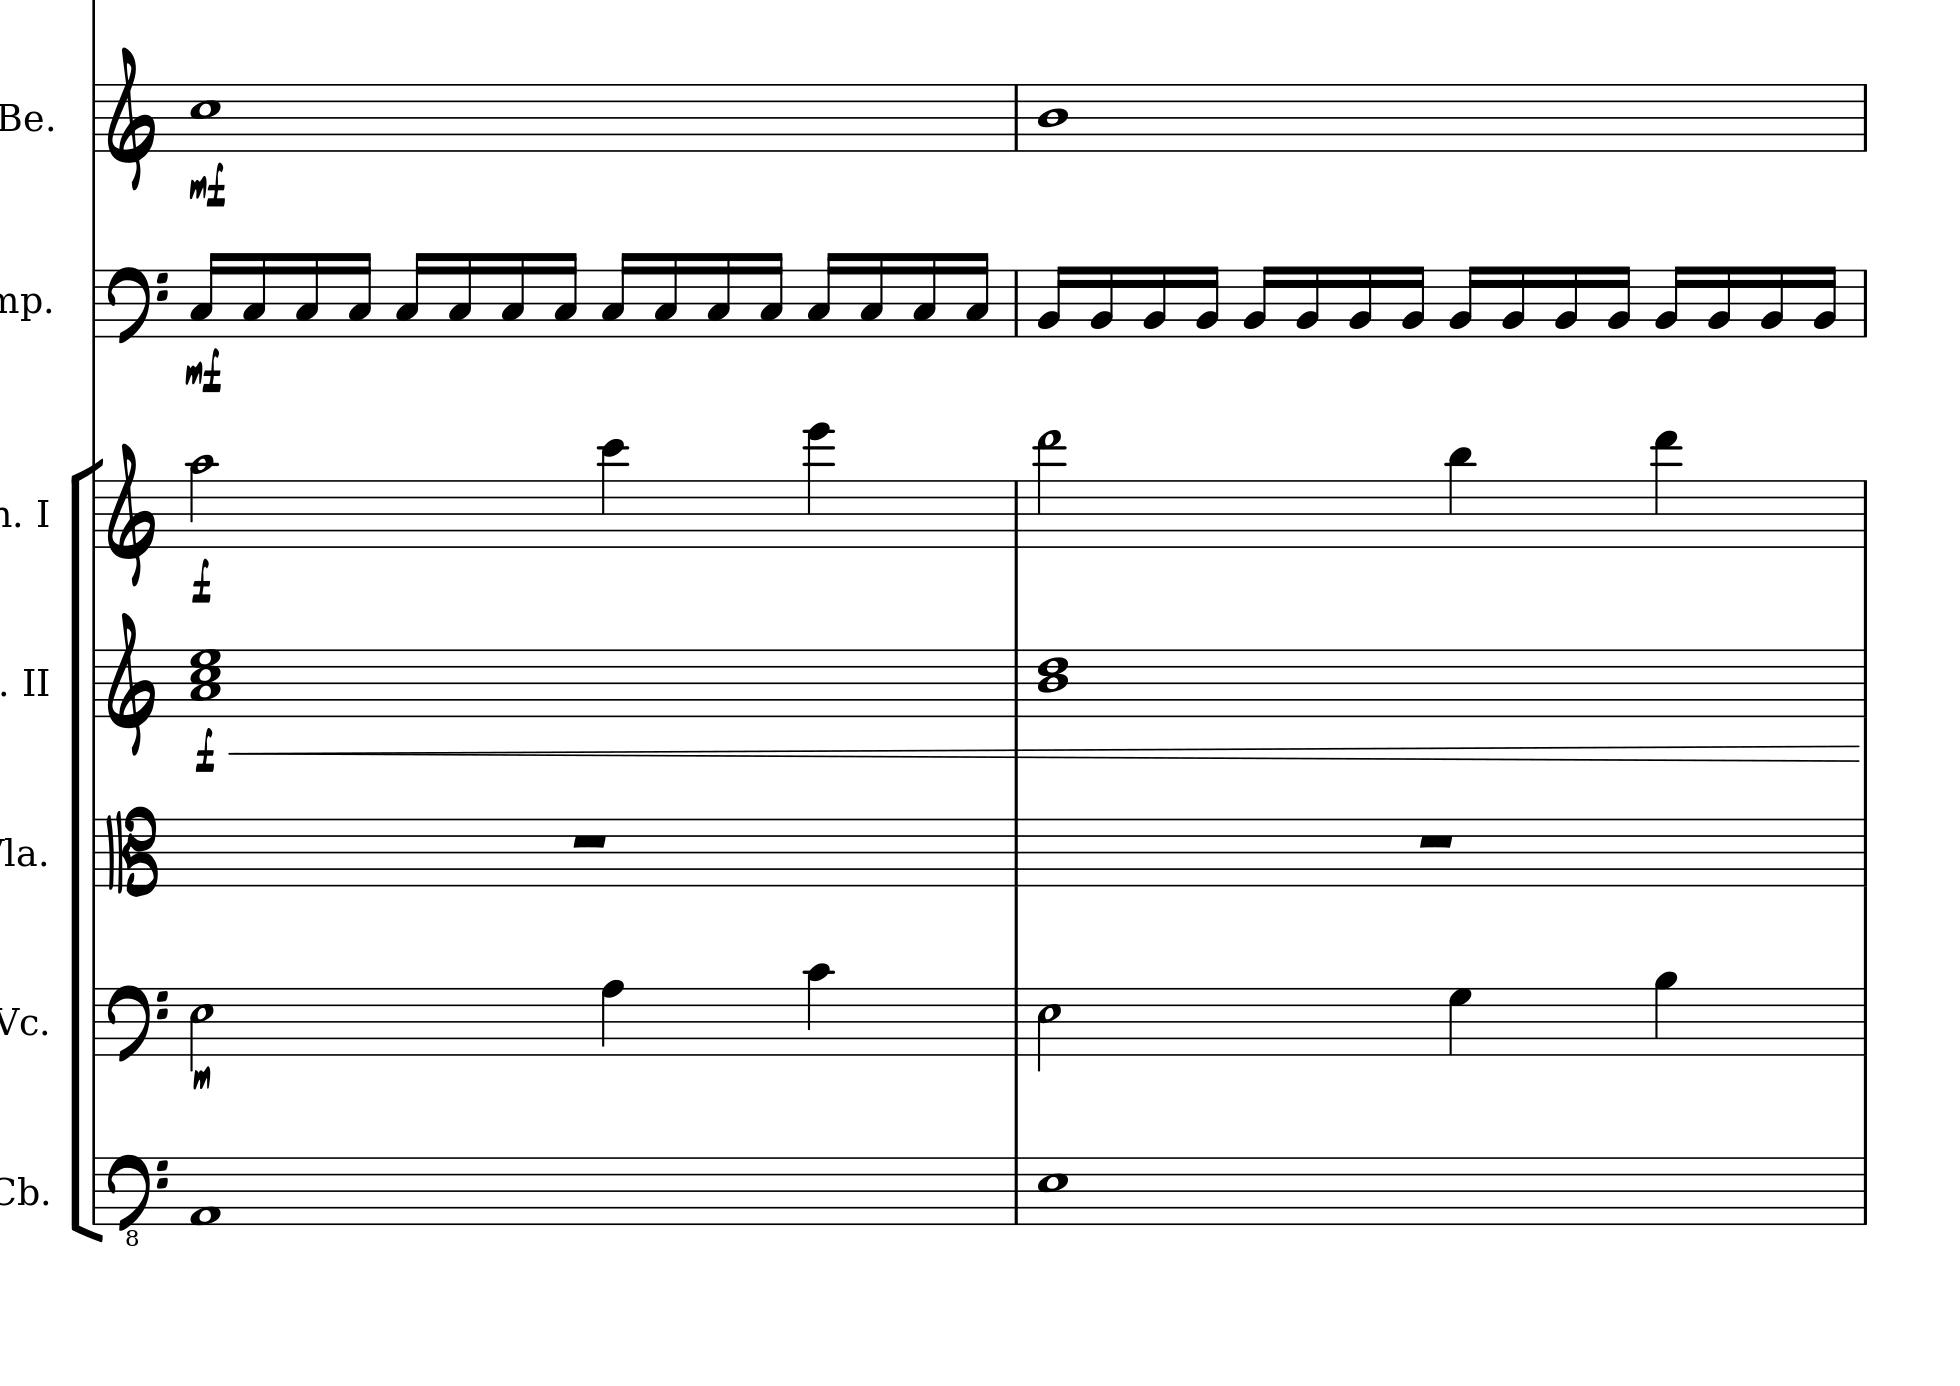16_2: (1035, 262, 1071, 339), (1653, 262, 1689, 339), (1447, 262, 1482, 339), (1242, 262, 1275, 340), (1294, 262, 1323, 340), (1087, 262, 1116, 339), (1141, 262, 1170, 339), (1194, 262, 1222, 339), (1347, 262, 1375, 339), (1605, 262, 1633, 339), (1812, 262, 1840, 339), (1401, 262, 1428, 340), (1500, 262, 1527, 340), (1554, 262, 1581, 339), (1707, 262, 1734, 339), (1761, 262, 1788, 339)
16_3: (393, 249, 429, 337), (598, 250, 634, 339), (189, 250, 223, 337), (805, 250, 838, 337), (856, 250, 886, 339), (445, 249, 474, 339), (910, 249, 939, 339), (963, 249, 991, 339), (705, 250, 733, 339), (294, 249, 321, 337), (346, 249, 373, 337), (499, 250, 526, 339), (552, 250, 579, 339), (652, 250, 679, 339), (757, 250, 784, 339), (241, 250, 268, 337)
1_1: (187, 1153, 222, 1231)
1_4: (1035, 79, 1071, 154)
1_4_6: (1036, 646, 1069, 718)
1_5: (189, 79, 222, 153), (1038, 1153, 1069, 1225)
1_th: (189, 645, 222, 709)
2_10: (186, 453, 216, 550)
2_13: (1035, 427, 1065, 550)
2_5: (1035, 984, 1062, 1074), (187, 987, 214, 1072)
4_10: (805, 960, 832, 1057)
4_11: (1446, 444, 1476, 550)
4_12: (597, 436, 628, 550)
4_13: (1653, 427, 1680, 550)
4_14: (802, 421, 834, 550)
4_7: (1447, 985, 1473, 1056)
4_8: (598, 976, 625, 1057)
4_9: (1653, 967, 1678, 1057)
Bracke: (67, 459, 103, 1243)
Cclef: (103, 805, 157, 898)
Fclef: (106, 982, 171, 1062), (106, 262, 169, 343)
Gclef: (105, 43, 157, 190), (106, 610, 157, 754), (106, 441, 156, 586)
Lower_Fclef: (105, 1152, 169, 1246)
Rests1: (568, 829, 610, 850), (1416, 829, 1458, 850)
Single_barline: (1006, 817, 1026, 885), (1006, 987, 1026, 1054), (1855, 819, 1875, 885), (1008, 1156, 1027, 1222), (1008, 268, 1026, 336), (1008, 480, 1026, 547), (1008, 648, 1026, 715), (1008, 84, 1026, 150), (85, 988, 103, 1054), (87, 478, 103, 547), (1857, 268, 1873, 336), (1857, 84, 1873, 150), (1857, 480, 1873, 546), (1857, 649, 1873, 715), (85, 649, 102, 715), (85, 817, 102, 883), (1857, 988, 1873, 1054), (87, 1156, 103, 1222), (87, 84, 102, 151), (1857, 1156, 1872, 1222), (87, 270, 102, 334)
Vla: (1, 829, 37, 876)
f: (189, 556, 213, 604), (193, 726, 216, 774)
mf: (184, 346, 223, 394), (189, 160, 226, 208)
mp: (190, 1065, 214, 1093)
